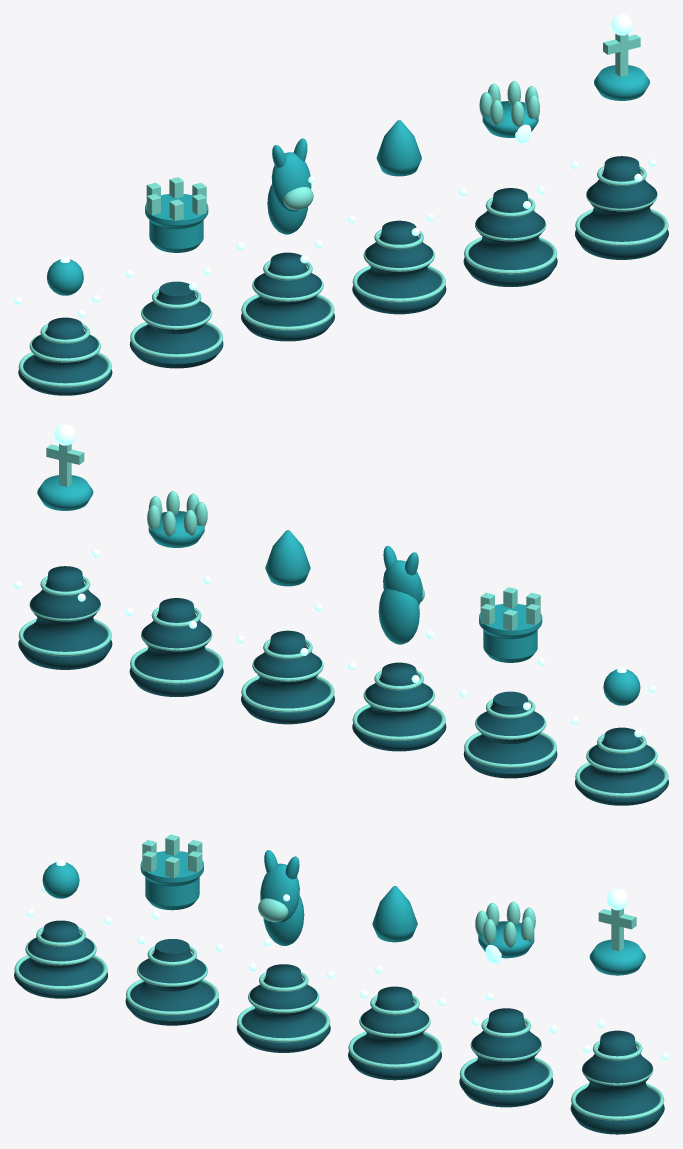
File: 08_Atlante_Submarino_6_Piezas.glb
3 views of the same model, one above another, from view 1: azimuth 30°, elevation 25°; view 2: azimuth 150°, elevation 25°; view 3: azimuth 330°, elevation 25° (orthographic).
Parts seen in each view (by area): view 1: 08_Atlante_Submarino_Torre, 08_Atlante_Submarino_Rey, 08_Atlante_Submarino_Caballo, 08_Atlante_Submarino_Reina, 08_Atlante_Submarino_Alfil, 08_Atlante_Submarino_Peon; view 2: 08_Atlante_Submarino_Torre, 08_Atlante_Submarino_Rey, 08_Atlante_Submarino_Caballo, 08_Atlante_Submarino_Reina, 08_Atlante_Submarino_Alfil, 08_Atlante_Submarino_Peon; view 3: 08_Atlante_Submarino_Rey, 08_Atlante_Submarino_Torre, 08_Atlante_Submarino_Reina, 08_Atlante_Submarino_Caballo, 08_Atlante_Submarino_Alfil, 08_Atlante_Submarino_Peon.
Boxes of the visible parts, left/top/right/bottom form: 08_Atlante_Submarino_Torre: left=125, top=177, right=223, bottom=368; 08_Atlante_Submarino_Rey: left=570, top=14, right=668, bottom=259; 08_Atlante_Submarino_Caballo: left=236, top=138, right=334, bottom=341; 08_Atlante_Submarino_Reina: left=459, top=81, right=557, bottom=286; 08_Atlante_Submarino_Alfil: left=348, top=120, right=446, bottom=314; 08_Atlante_Submarino_Peon: left=14, top=256, right=112, bottom=395; 08_Atlante_Submarino_Torre: left=459, top=587, right=557, bottom=778; 08_Atlante_Submarino_Rey: left=14, top=424, right=112, bottom=669; 08_Atlante_Submarino_Caballo: left=348, top=545, right=446, bottom=751; 08_Atlante_Submarino_Reina: left=125, top=491, right=223, bottom=696; 08_Atlante_Submarino_Alfil: left=236, top=530, right=334, bottom=724; 08_Atlante_Submarino_Peon: left=570, top=666, right=668, bottom=805; 08_Atlante_Submarino_Rey: left=570, top=888, right=668, bottom=1134; 08_Atlante_Submarino_Torre: left=125, top=834, right=223, bottom=1025; 08_Atlante_Submarino_Reina: left=459, top=901, right=557, bottom=1107; 08_Atlante_Submarino_Caballo: left=236, top=850, right=334, bottom=1052; 08_Atlante_Submarino_Alfil: left=348, top=886, right=446, bottom=1080; 08_Atlante_Submarino_Peon: left=14, top=859, right=112, bottom=998.
Size of the model in its own units: 8.16 by 2.77 by 1.09.
